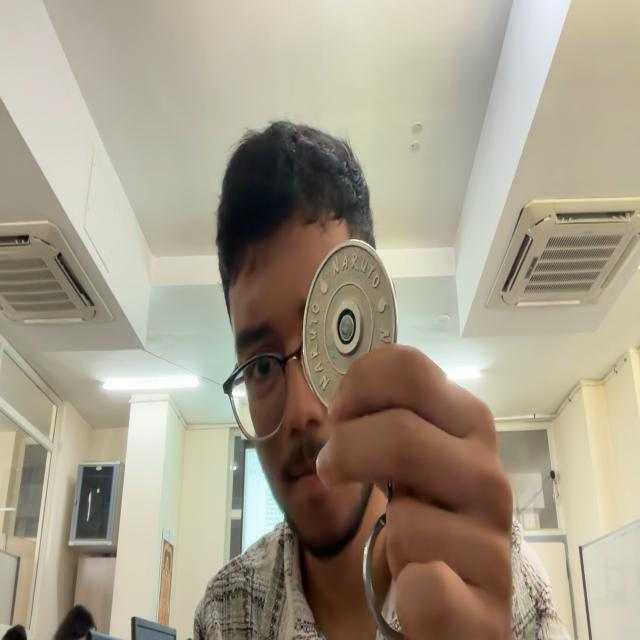dangerous: (302, 239, 397, 406)
